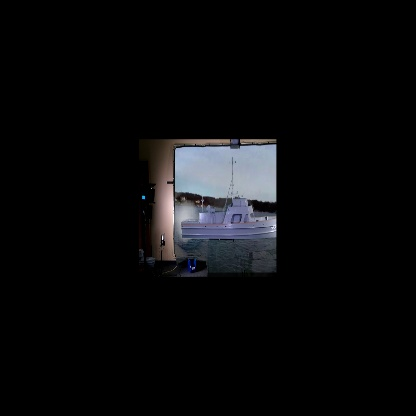YP689: (180, 155, 276, 239)
